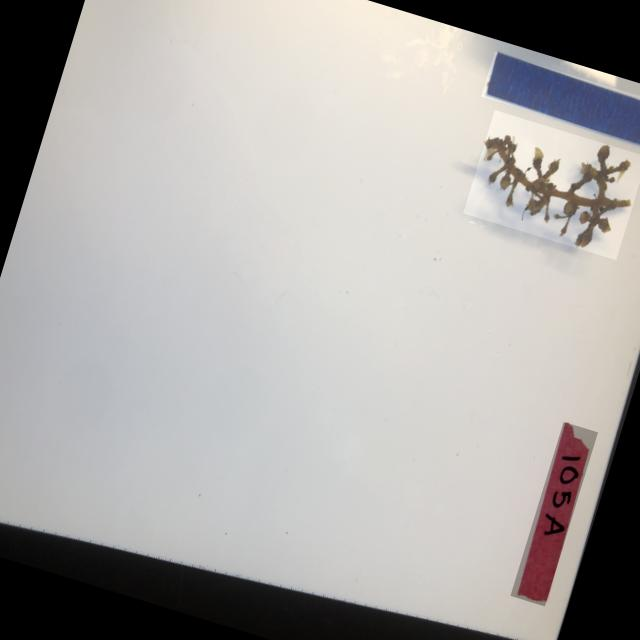index: (508, 421, 596, 606)
measure_label: (479, 50, 640, 157)
rachis_cluster: (461, 110, 640, 260)
